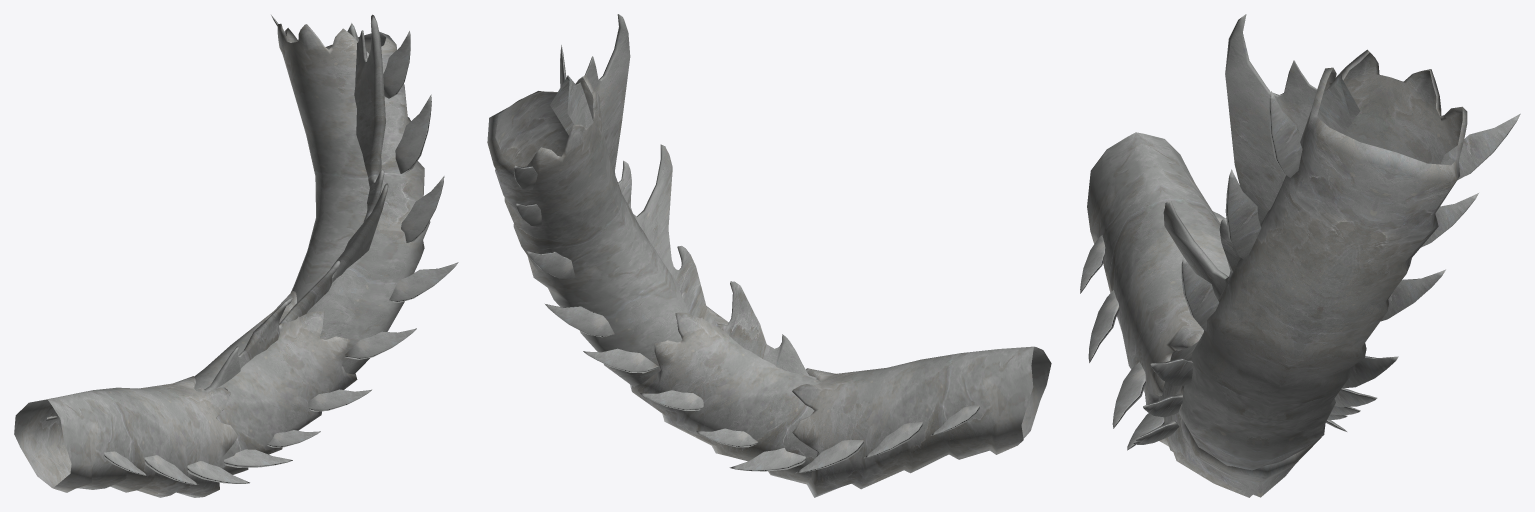
The model's file is SM_Val_Sta_02BL.fbx.
The picture shows the model from 3 angles, left to right: view 1: azimuth 30°, elevation 25°; view 2: azimuth 150°, elevation 25°; view 3: azimuth 270°, elevation 25°; orthographic projection. The views are drawn at different scales.
Visible parts, largest first — view 1: SM_Val_Sta_02BL.mo; view 2: SM_Val_Sta_02BL.mo; view 3: SM_Val_Sta_02BL.mo.
Part boxes in pixels (x1,y1,x2,y2): SM_Val_Sta_02BL.mo: [14, 14, 458, 497]; SM_Val_Sta_02BL.mo: [487, 14, 1051, 497]; SM_Val_Sta_02BL.mo: [1080, 14, 1520, 497].
Bounding box in the file's own units: 42.15 × 38.31 × 26.15.
